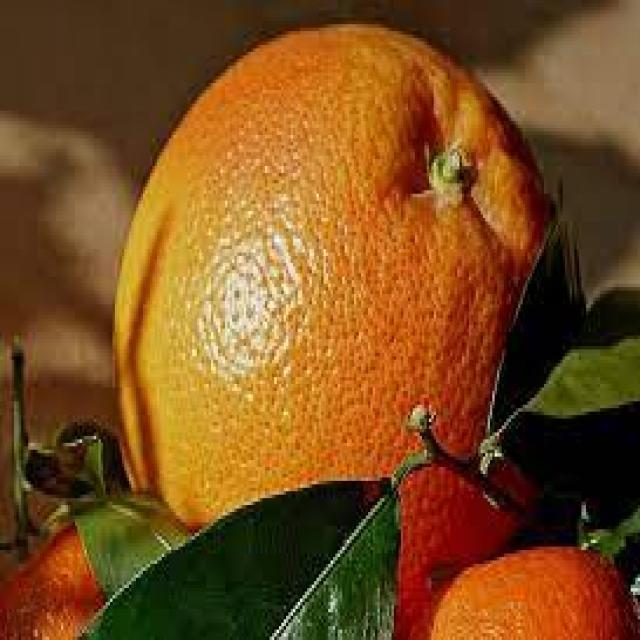Orange: (110, 21, 552, 533)
